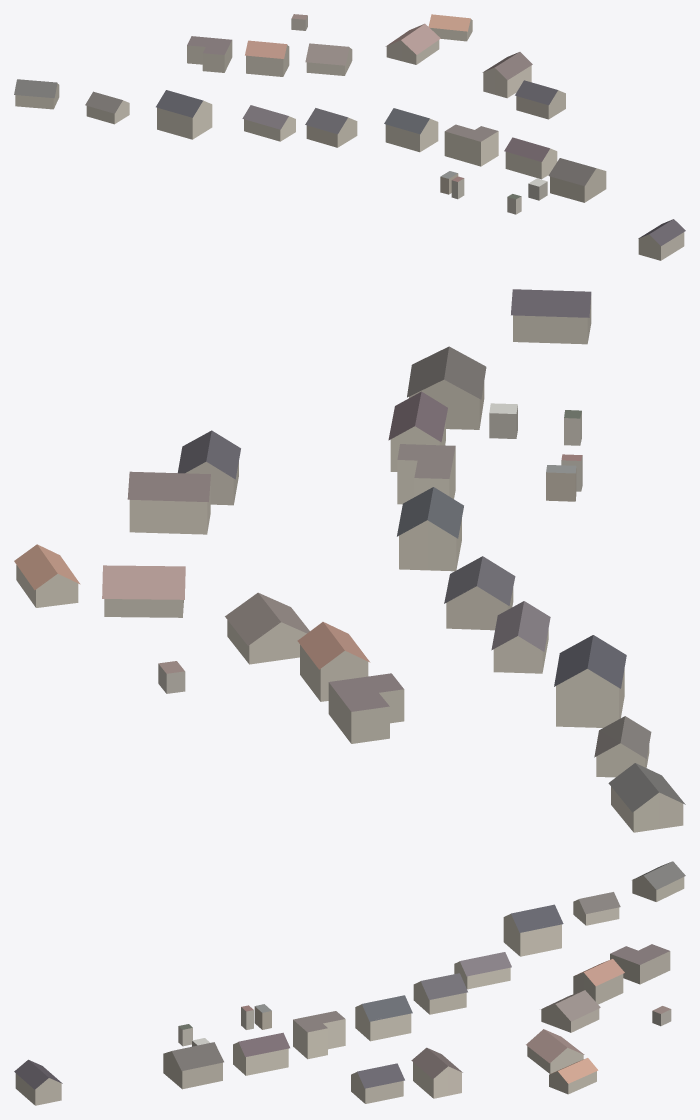
3 renders of one model, top to bottom at view 1: azimuth 30°, elevation 25°; view 2: azimuth 150°, elevation 25°; view 3: azimuth 270°, elevation 25°, orthographic. The views are drawn at different scales.
Parts seen in each view (by area): view 1: tuile; view 2: tuile; view 3: tuile.
Part boxes in pixels (left/top/right/bottom): tuile: left=14, top=14, right=685, bottom=260; tuile: left=14, top=289, right=685, bottom=832; tuile: left=14, top=861, right=685, bottom=1105.
Bounding box in the file's own units: 150 × 18.07 × 193.
